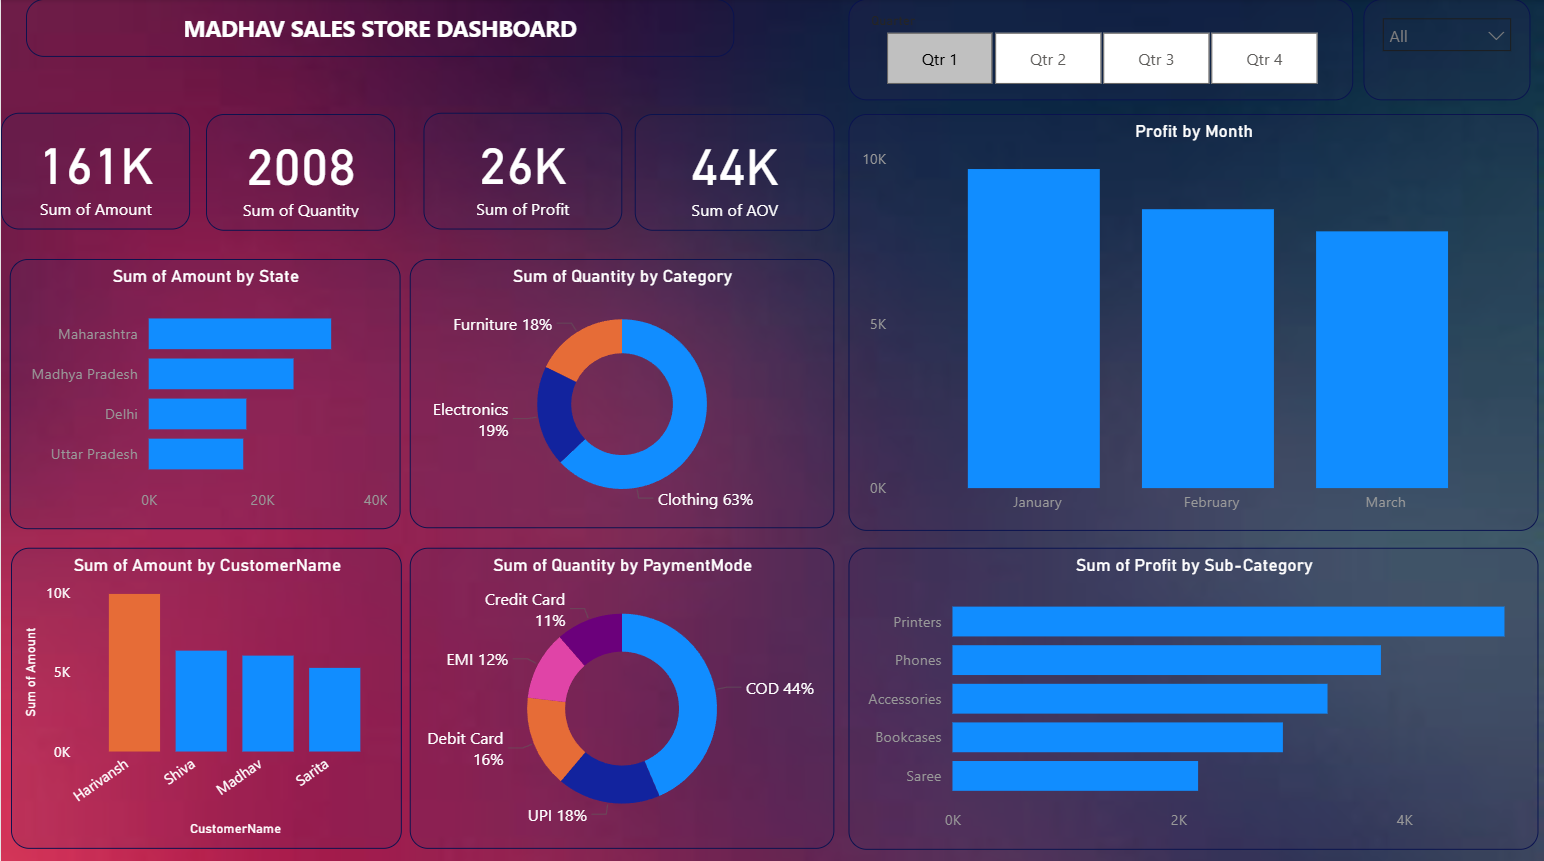

What the dashboard file says about the page in this screenshot:
{"tool":"powerbi","page":{"name":"Page 1","canvas":[1280,720],"ordinal":0},"visuals":[{"type":"textbox","box":[0,0,587.2,47.7],"z":0},{"type":"columnChart","title":"Profit by Month","fields":{"Category":["Orders madhav store.Order Date.Variation.Date Hierarchy.Month"],"Y":["Details madhav store.Profit"]},"box":[702.1,95.3,571.6,345.9],"z":1},{"type":"barChart","fields":{"Category":["Details madhav store.Sub-Category"],"Y":["Details madhav store.Profit"]},"box":[702.3,454.7,572.1,250],"z":2},{"type":"donutChart","fields":{"Category":["Details madhav store.Category"],"Y":["Details madhav store.Quantity"]},"box":[339.1,215.5,351.6,223.4],"z":3},{"type":"donutChart","fields":{"Category":["Details madhav store.PaymentMode"],"Y":["Details madhav store.Quantity"]},"box":[339.1,454.8,351.6,249.5],"z":4},{"type":"card","fields":{"Values":["Details madhav store.Amount"]},"box":[0,94.2,157,96.5],"z":5},{"type":"card","fields":{"Values":["Details madhav store.Quantity"]},"box":[169.8,95.3,157,96.5],"z":6},{"type":"card","fields":{"Values":["Details madhav store.Profit"]},"box":[350.5,94.1,164.5,96.4],"z":7},{"type":"card","fields":{"Values":["Details madhav store.AOV"]},"box":[525.1,95.3,165.6,96.4],"z":8},{"type":"barChart","fields":{"Category":["Orders madhav store.State"],"Y":["Details madhav store.Amount"]},"box":[7.7,215.9,323.9,223.6],"z":9},{"type":"columnChart","fields":{"Category":["Orders madhav store.CustomerName"],"Y":["Details madhav store.Amount"]},"box":[7.9,454.8,324.4,249.5],"z":10},{"type":"slicer","fields":{"Values":["Orders madhav store.Order Date.Variation.Date Hierarchy.Quarter"]},"box":[702.3,0,418.6,83.7],"z":11},{"type":"slicer","fields":{"Values":["Orders madhav store.State"]},"box":[1129.1,0,138.4,83.7],"z":12}]}

Visuals, with their boxes in screenshot pixels (x1, y1, x2, y2), scaled from the page's 1280x720 canvas onto the 1544x861 screenshot:
textbox: box(0, 0, 708, 57)
"Profit by Month" columnChart: box(847, 114, 1536, 528)
barChart - Details madhav store.Sub-Category x Details madhav store.Profit: box(847, 544, 1537, 843)
donutChart - Details madhav store.Category x Details madhav store.Quantity: box(409, 258, 833, 525)
donutChart - Details madhav store.PaymentMode x Details madhav store.Quantity: box(409, 544, 833, 842)
card - Details madhav store.Amount: box(0, 113, 189, 228)
card - Details madhav store.Quantity: box(205, 114, 394, 229)
card - Details madhav store.Profit: box(423, 113, 621, 228)
card - Details madhav store.AOV: box(633, 114, 833, 229)
barChart - Orders madhav store.State x Details madhav store.Amount: box(9, 258, 400, 526)
columnChart - Orders madhav store.CustomerName x Details madhav store.Amount: box(10, 544, 401, 842)
slicer - Orders madhav store.Order Date.Variation.Date Hierarchy.Quarter: box(847, 0, 1352, 100)
slicer - Orders madhav store.State: box(1362, 0, 1529, 100)
